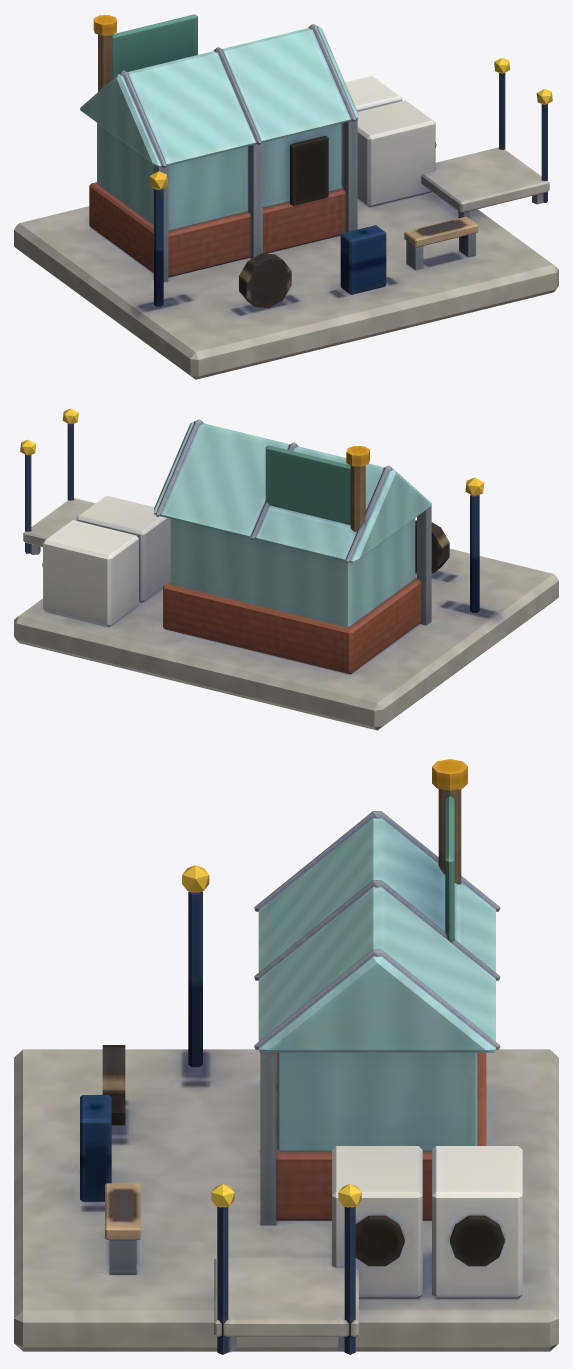
Rendered from fishery-20.glb.
3 renders of one model, top to bottom at view 1: azimuth 30°, elevation 25°; view 2: azimuth 150°, elevation 25°; view 3: azimuth 270°, elevation 25°, orthographic. The views are drawn at different scales.
Visible parts, largest first — view 1: fishery-20; view 2: fishery-20; view 3: fishery-20.
Part boxes in pixels (x1,y1,x2,y2): fishery-20: (14, 14, 558, 379); fishery-20: (14, 408, 558, 730); fishery-20: (14, 759, 558, 1354).
Bounding box in the file's own units: 1.63 × 0.88 × 1.2.
1 material, 1 textured.
